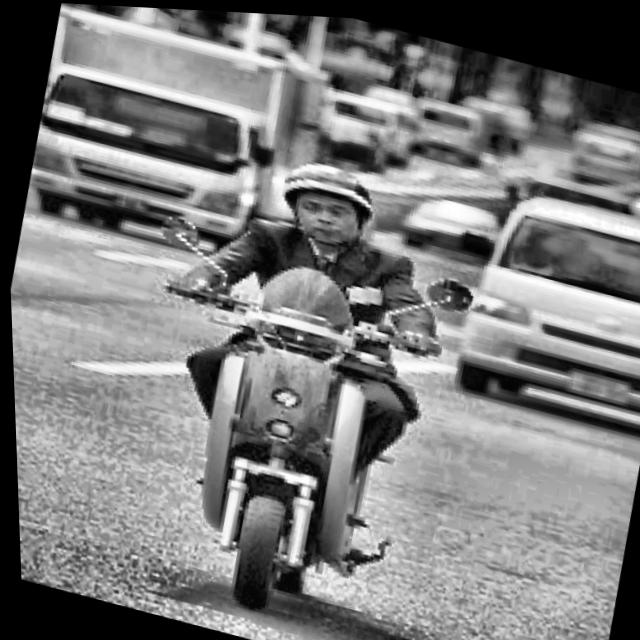motorcycle: (80, 183, 508, 640)
